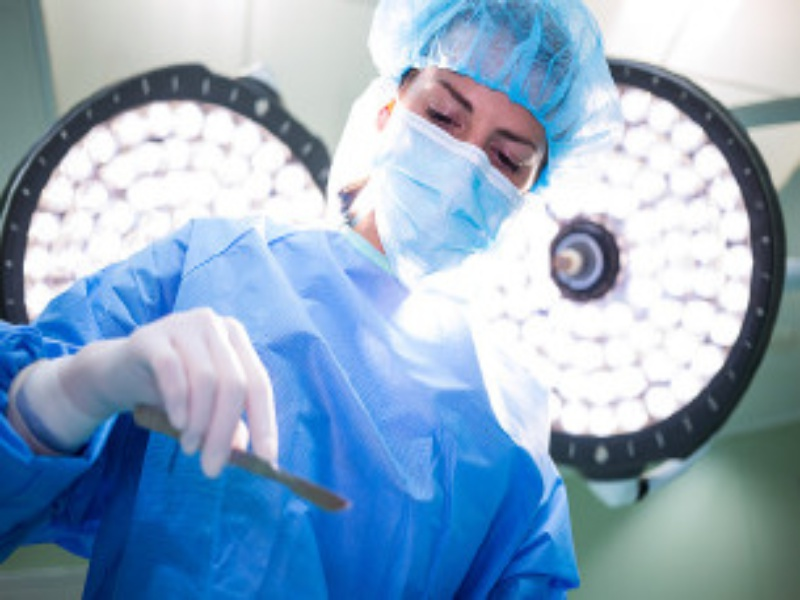mask: (342, 1, 617, 301)
